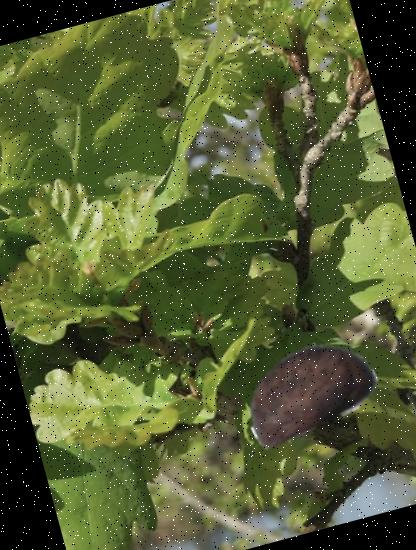Chestnut: (224, 306, 392, 472)
